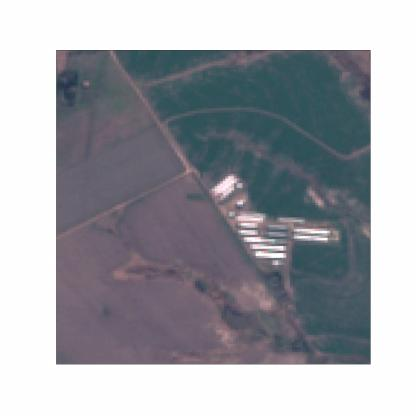silobolsa: (214, 172, 244, 196), (220, 181, 244, 201), (293, 226, 334, 236), (212, 176, 234, 194), (292, 233, 329, 242), (233, 209, 265, 218), (250, 244, 290, 251), (245, 235, 279, 243), (253, 252, 289, 258), (238, 216, 264, 223), (239, 227, 259, 236), (238, 222, 259, 228)
